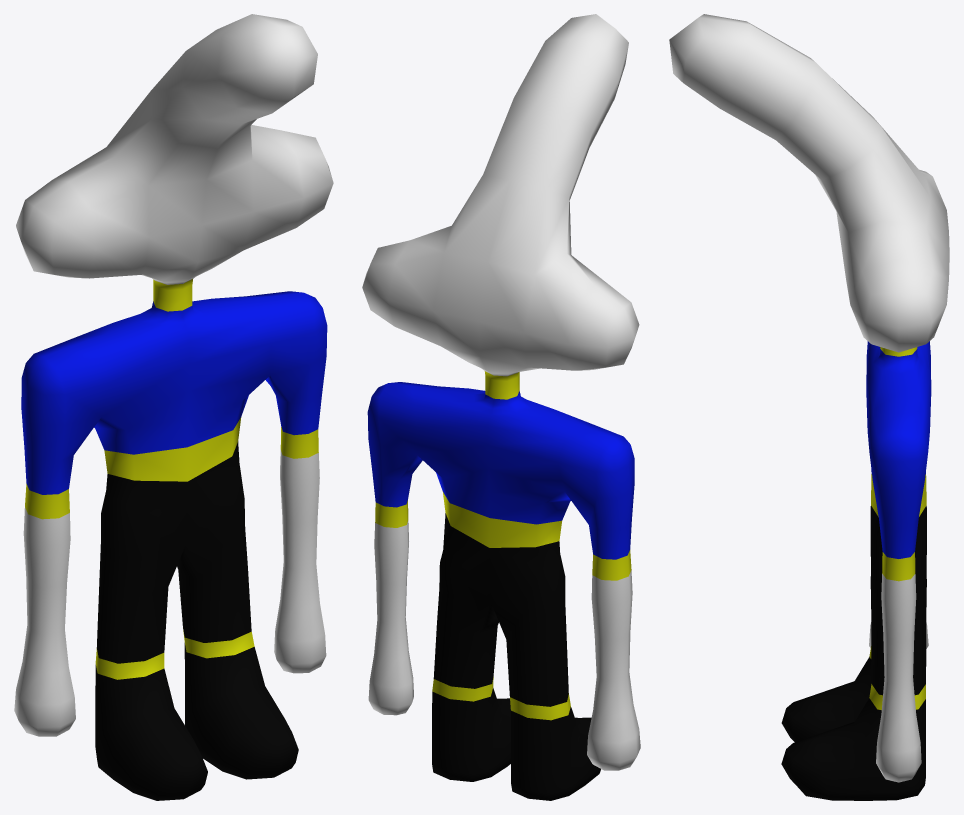
Rendered from Traher.fbx.
3 renders of one model, left to right at view 1: azimuth 30°, elevation 25°; view 2: azimuth 150°, elevation 25°; view 3: azimuth 270°, elevation 25°, orthographic. The views are drawn at different scales.
Parts seen in each view (by area): view 1: Cube; view 2: Cube; view 3: Cube.
Boxes of the visible parts, <box> form: Cube: <box>14,14,333,800</box>; Cube: <box>362,14,640,800</box>; Cube: <box>669,14,949,800</box>.
Bounding box in the file's own units: 50.75 × 126 × 42.59.
